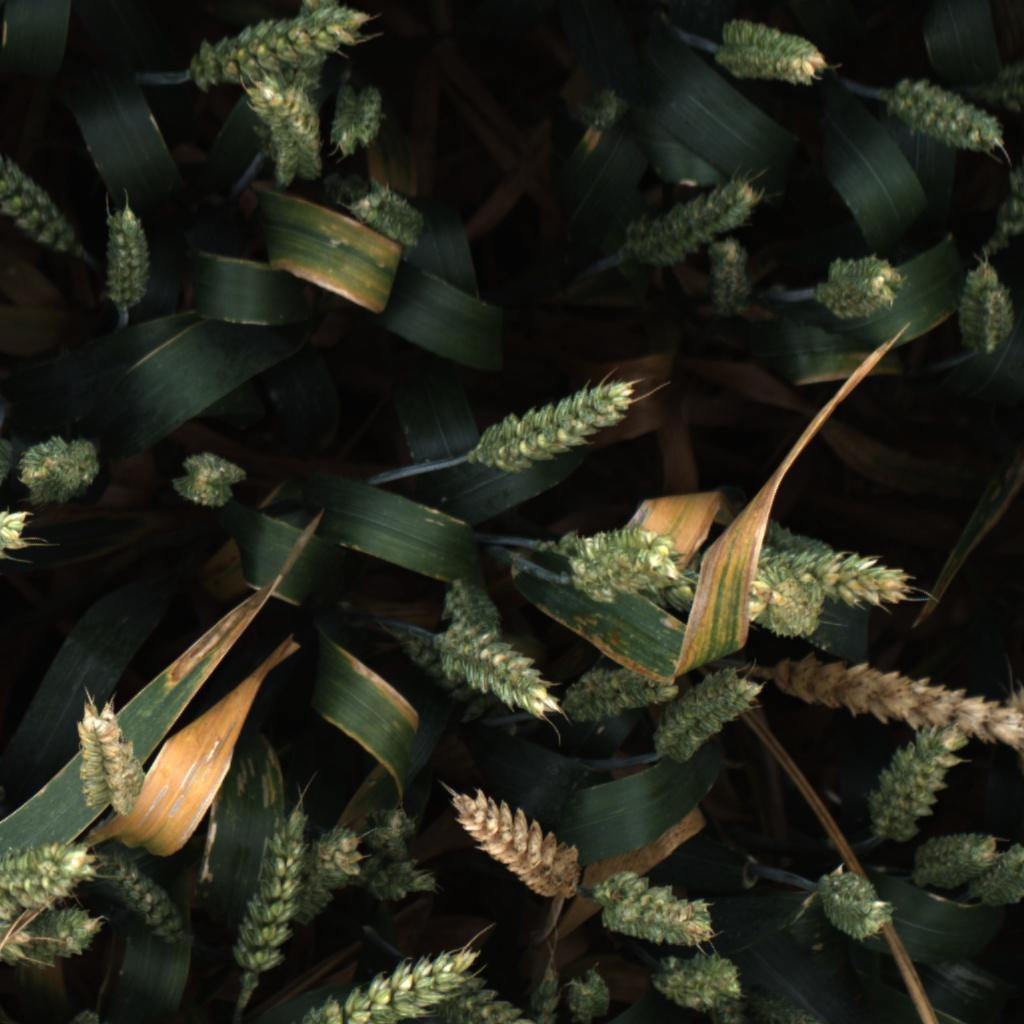0-0: (767, 649, 1024, 755), (185, 2, 368, 97), (470, 374, 639, 472), (618, 165, 764, 276), (443, 785, 580, 898), (295, 942, 483, 1024), (225, 809, 304, 995), (861, 716, 967, 845), (555, 524, 700, 615), (650, 662, 770, 770), (749, 543, 914, 611), (437, 634, 556, 726), (67, 691, 151, 818), (884, 71, 1005, 159), (591, 869, 717, 948), (0, 145, 79, 264), (283, 821, 365, 935), (240, 71, 323, 182), (713, 13, 826, 90), (559, 662, 681, 728), (564, 542, 685, 607), (0, 837, 104, 911), (107, 856, 186, 952), (949, 257, 1024, 357), (96, 196, 159, 314), (812, 248, 907, 325), (812, 865, 898, 950), (17, 901, 108, 977), (744, 564, 826, 641), (327, 177, 421, 244), (17, 434, 105, 505), (434, 969, 541, 1024), (324, 79, 394, 163), (650, 954, 746, 1015), (913, 819, 1002, 883), (166, 442, 245, 514), (434, 572, 506, 639), (705, 234, 759, 321), (353, 855, 440, 908), (756, 512, 838, 563), (982, 153, 1024, 249), (572, 77, 634, 135), (362, 801, 420, 861), (747, 984, 830, 1024), (564, 967, 614, 1024), (524, 958, 567, 1024), (986, 58, 1024, 126), (0, 504, 35, 570), (0, 883, 35, 947), (990, 838, 1024, 899), (0, 733, 23, 821), (0, 914, 36, 968), (709, 1000, 752, 1024), (57, 1005, 110, 1024)
